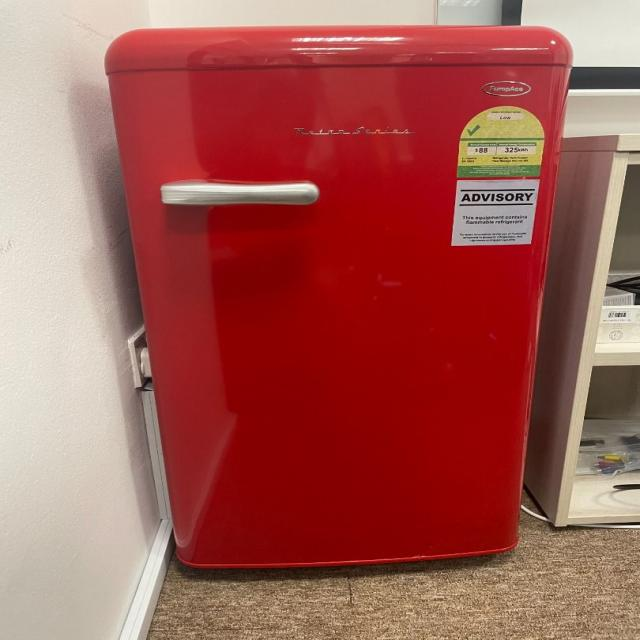refrigerator: (106, 26, 573, 572)
